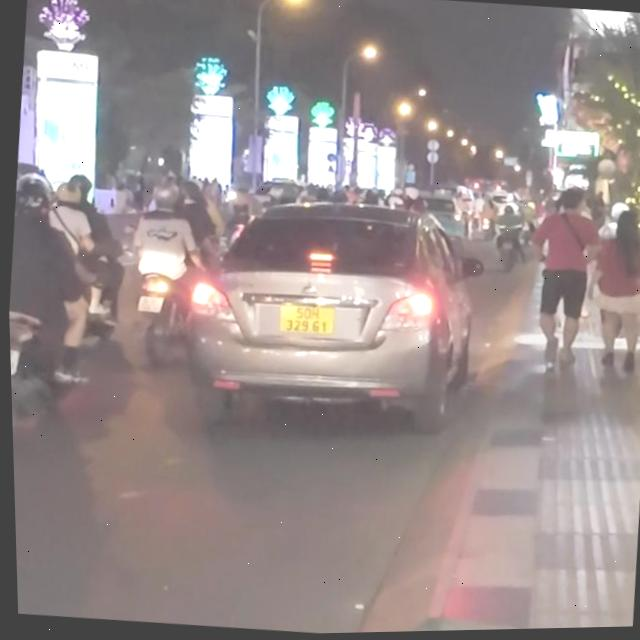car: (175, 183, 491, 450)
motorcycle: (123, 266, 190, 370)
plate: (274, 298, 343, 343), (132, 288, 168, 315)
